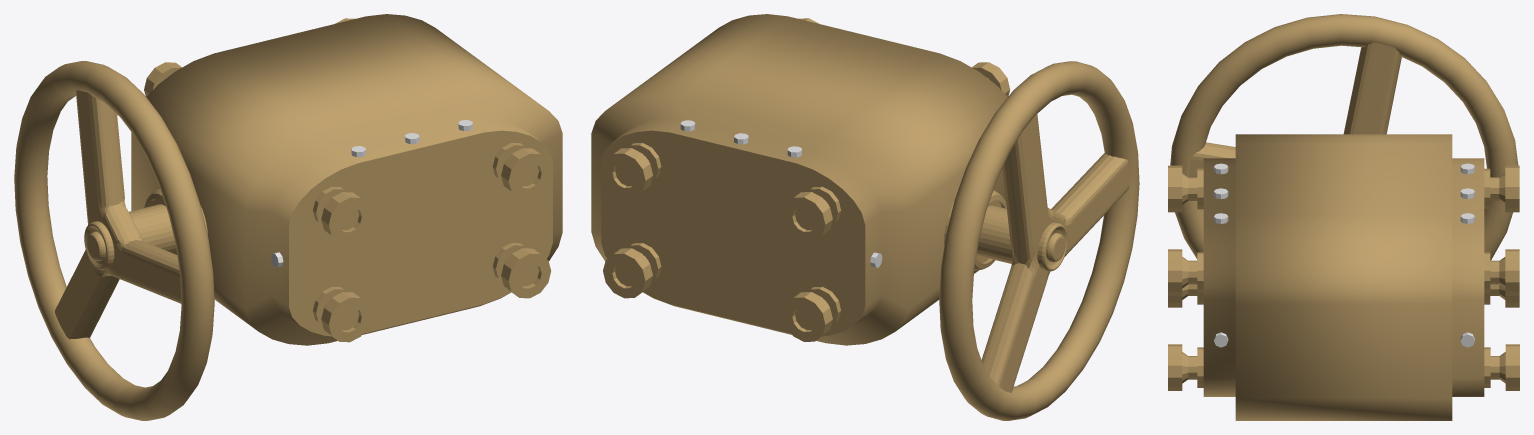
File: Tuyau-Valve.fbx
3 renders of one model, left to right at view 1: azimuth 30°, elevation 25°; view 2: azimuth 150°, elevation 25°; view 3: azimuth 270°, elevation 25°, orthographic. The views are drawn at different scales.
Visible parts, largest first — view 1: Tuyau-Valve; view 2: Tuyau-Valve; view 3: Tuyau-Valve.
Part boxes in pixels (box(x1,y1,x2,y2)): Tuyau-Valve: box(14, 14, 562, 420); Tuyau-Valve: box(591, 14, 1139, 420); Tuyau-Valve: box(1168, 14, 1519, 420).
Size of the model in its own units: 12071 by 9334 by 9386.
